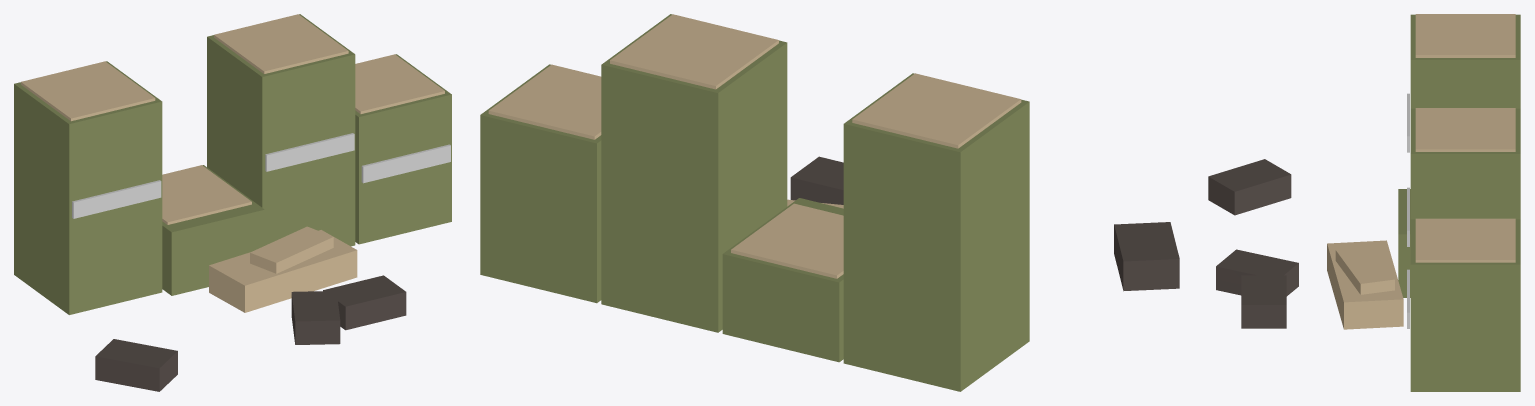
The model's file is SM_HescoCorto4_v2_Escalonado_e1_Danado_LOD1.fbx.
3 renders of one model, left to right at view 1: azimuth 30°, elevation 25°; view 2: azimuth 150°, elevation 25°; view 3: azimuth 270°, elevation 25°, orthographic. The views are drawn at different scales.
Visible parts, largest first — view 1: SM_hesco_piezas_v109_LOD1; view 2: SM_hesco_piezas_v109_LOD1; view 3: SM_hesco_piezas_v109_LOD1.
Boxes of the visible parts, bbox=[...] form: SM_hesco_piezas_v109_LOD1: bbox=[14, 14, 451, 391]; SM_hesco_piezas_v109_LOD1: bbox=[480, 14, 1179, 391]; SM_hesco_piezas_v109_LOD1: bbox=[1208, 14, 1520, 391].
Size of the model in its own units: 4.94 by 2.13 by 3.12.
